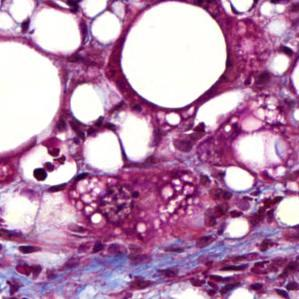steatosis: (120, 5, 233, 108), (70, 81, 107, 123)
